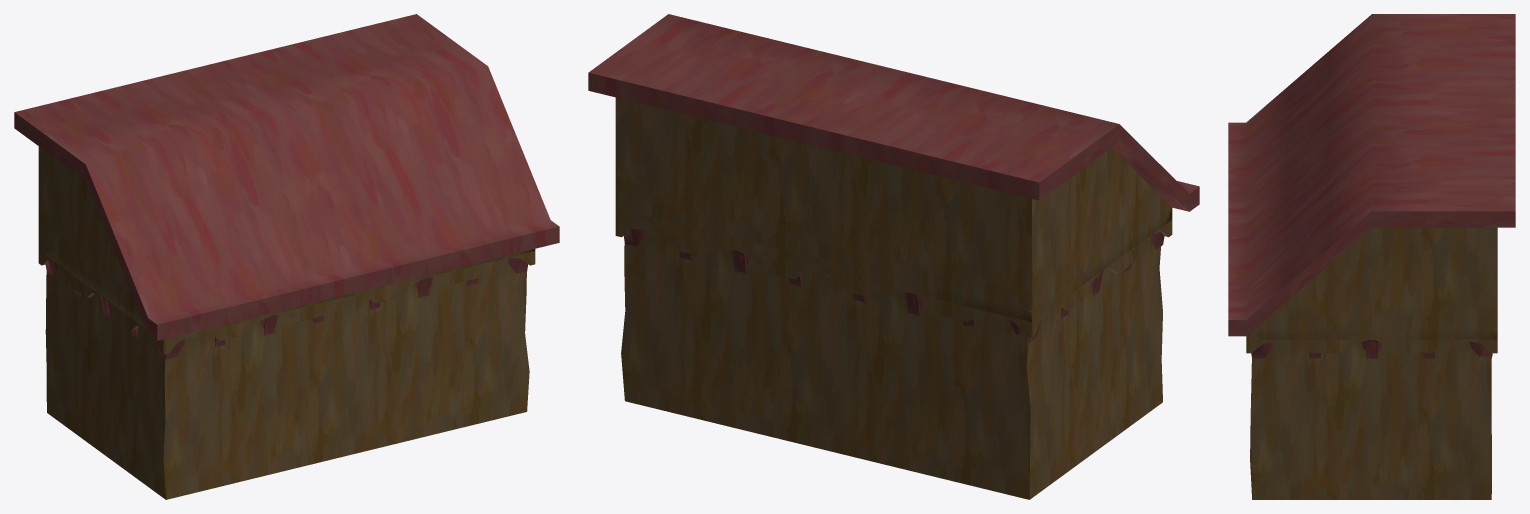
Rendered from PoorDistrictBuildingLarge_Model.fbx.
3 views of the same model, side by side, from view 1: azimuth 30°, elevation 25°; view 2: azimuth 150°, elevation 25°; view 3: azimuth 270°, elevation 25° (orthographic). The views are drawn at different scales.
Visible parts, largest first — view 1: PoorDistrictBuildingLarge_Roof, PoorDistrictBuildingLarge_Model, PoorDistrictBuildinglarge_Trim3, PoorDistrictBuildinglarge_Trim1, PoorDistrictBuildinglarge_Trim2; view 2: PoorDistrictBuildingLarge_Roof, PoorDistrictBuildingLarge_Model, PoorDistrictBuildinglarge_Trim3, PoorDistrictBuildinglarge_Trim1, PoorDistrictBuildinglarge_Trim2; view 3: PoorDistrictBuildingLarge_Roof, PoorDistrictBuildingLarge_Model, PoorDistrictBuildinglarge_Trim1, PoorDistrictBuildinglarge_Trim3, PoorDistrictBuildinglarge_Trim2.
Part boxes in pixels (<box>): PoorDistrictBuildingLarge_Roof: <box>14,14,559,340</box>; PoorDistrictBuildingLarge_Model: <box>45,258,529,499</box>; PoorDistrictBuildinglarge_Trim3: <box>38,240,535,354</box>; PoorDistrictBuildinglarge_Trim1: <box>45,249,535,359</box>; PoorDistrictBuildinglarge_Trim2: <box>38,239,521,356</box>; PoorDistrictBuildingLarge_Roof: <box>588,14,1199,309</box>; PoorDistrictBuildingLarge_Model: <box>621,229,1162,499</box>; PoorDistrictBuildinglarge_Trim3: <box>615,209,1172,337</box>; PoorDistrictBuildinglarge_Trim1: <box>623,208,1172,342</box>; PoorDistrictBuildinglarge_Trim2: <box>631,229,1161,336</box>; PoorDistrictBuildingLarge_Roof: <box>1228,14,1515,336</box>; PoorDistrictBuildingLarge_Model: <box>1250,339,1491,499</box>; PoorDistrictBuildinglarge_Trim1: <box>1251,328,1497,358</box>; PoorDistrictBuildinglarge_Trim3: <box>1246,328,1497,353</box>; PoorDistrictBuildinglarge_Trim2: <box>1246,328,1484,358</box>.
Bounding box in the file's own units: 780 × 550 × 480.
